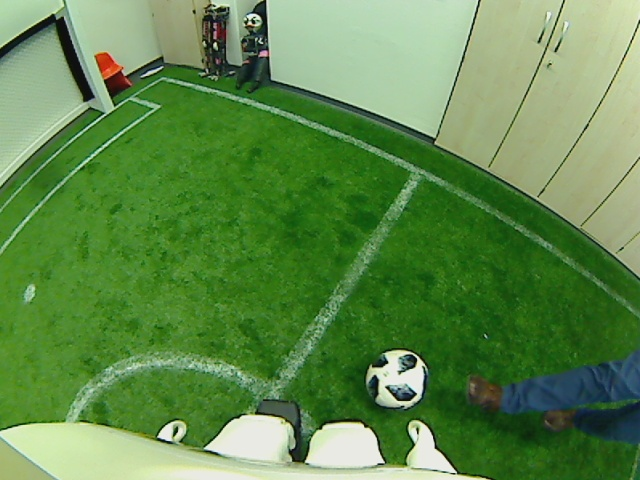ball: (362, 348, 428, 411)
